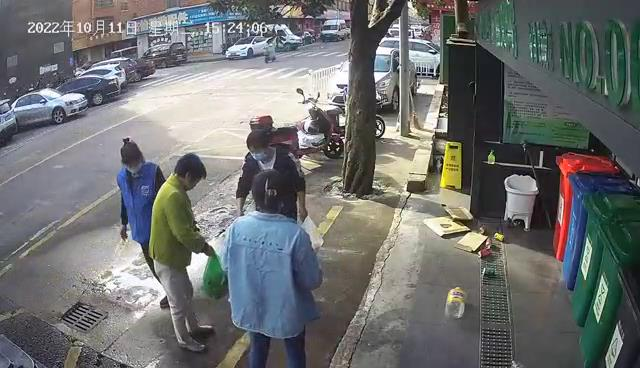garbage-bag: (201, 254, 230, 301), (297, 216, 324, 252)
lvzhipin: (478, 247, 490, 258), (493, 231, 505, 241), (486, 238, 493, 248)
person: (147, 152, 216, 353), (236, 128, 308, 227)
suliaozhipin: (444, 285, 467, 320)
worker: (220, 167, 323, 368), (116, 136, 169, 310)
zhizhipin: (423, 214, 470, 237), (453, 231, 489, 253), (444, 206, 473, 220)
